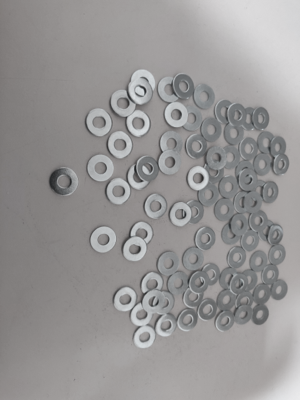circle: (50, 168, 79, 196), (86, 155, 114, 182), (90, 226, 117, 254), (110, 90, 137, 118), (86, 109, 112, 137), (108, 132, 133, 160), (131, 70, 156, 97), (126, 111, 151, 137), (144, 193, 168, 220), (123, 237, 148, 262), (129, 222, 154, 247), (113, 287, 138, 312), (107, 179, 131, 205), (165, 102, 189, 128), (169, 202, 193, 227), (158, 150, 182, 175), (159, 131, 183, 156), (158, 77, 181, 103), (129, 81, 153, 105), (137, 157, 160, 182), (187, 166, 210, 191), (180, 106, 203, 131), (185, 135, 208, 160), (193, 84, 216, 109), (173, 74, 195, 100), (133, 326, 156, 350), (142, 290, 165, 314), (142, 272, 164, 297), (182, 201, 205, 224), (157, 252, 179, 276), (153, 291, 175, 315), (202, 161, 224, 185), (214, 100, 235, 125), (131, 304, 154, 326), (155, 314, 177, 337), (195, 227, 216, 251), (198, 183, 219, 207), (201, 118, 222, 142), (214, 198, 235, 222), (183, 248, 204, 271), (200, 264, 221, 287), (178, 308, 198, 332), (198, 298, 218, 322), (221, 146, 241, 170), (227, 104, 247, 128), (240, 106, 259, 131), (168, 273, 189, 295), (183, 286, 204, 308), (190, 271, 210, 294), (207, 147, 227, 170), (234, 191, 254, 214), (219, 176, 239, 199), (230, 213, 249, 237), (225, 122, 244, 146), (215, 311, 235, 333), (248, 211, 268, 233), (241, 230, 261, 252), (257, 219, 276, 242), (239, 169, 258, 192), (239, 138, 258, 161), (217, 290, 237, 311), (219, 268, 239, 289), (236, 292, 255, 314), (251, 304, 270, 326), (250, 180, 269, 202), (228, 247, 247, 269), (222, 224, 241, 246), (244, 192, 262, 215), (230, 274, 249, 295), (234, 304, 253, 325), (240, 270, 258, 292), (271, 279, 289, 301), (250, 251, 268, 273), (254, 154, 272, 176), (253, 108, 270, 131), (273, 154, 290, 176), (270, 136, 287, 158), (258, 132, 275, 154), (263, 181, 279, 204), (262, 265, 280, 285), (254, 285, 271, 306), (269, 245, 286, 266), (267, 224, 284, 245)
